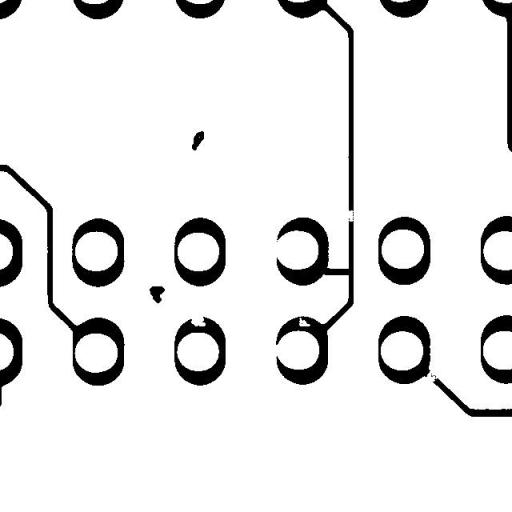copper: (142, 278, 172, 310), (184, 123, 211, 158)
mousebite: (183, 306, 213, 334)
open: (418, 362, 446, 393), (334, 202, 365, 229)
pin-hole: (291, 310, 318, 334)
short: (311, 260, 359, 282)
